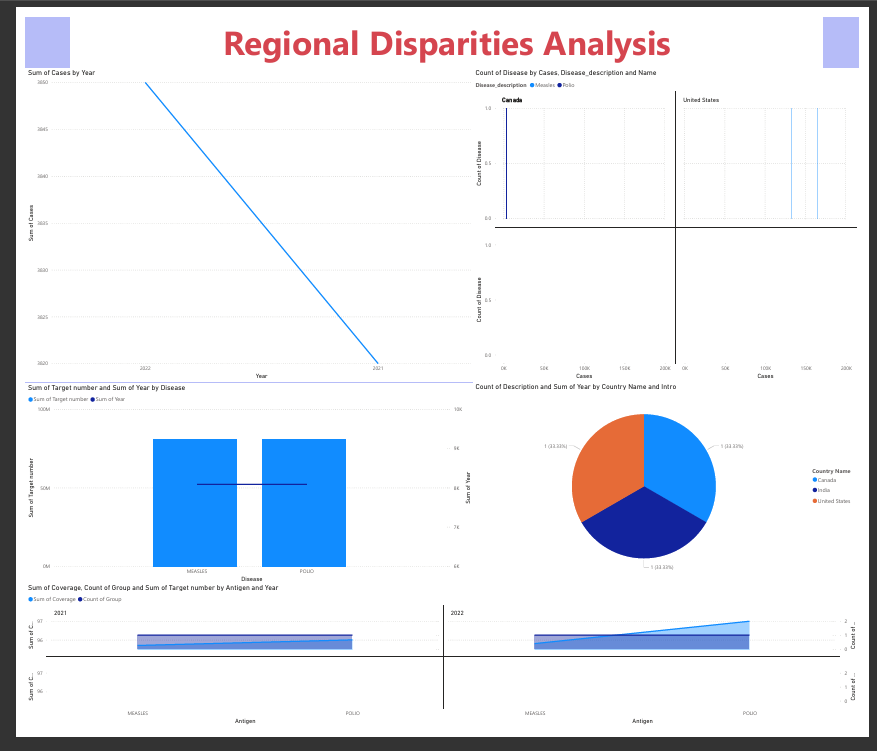

This screenshot's page, from the dashboard's own definition file:
{"tool":"powerbi","page":{"name":"vaccination report","canvas":[2000,1700],"ordinal":0},"visuals":[{"type":"lineChart","fields":{"Category":["Reported_Cases.Year"],"Y":["Sum(Reported_Cases.Cases)"]},"box":[0,124.2,1074.1,750.7],"z":0},{"type":"lineStackedColumnComboChart","fields":{"Category":["Reported_Cases.Cases"],"Y":["CountNonNull(Reported_Cases.Disease)"],"Series":["Reported_Cases.Disease_description"],"Rows":["Reported_Cases.Name"]},"box":[1074.1,124.2,926.8,750.7],"z":1000},{"type":"lineStackedColumnComboChart","fields":{"Category":["Incidence_Rates.Disease"],"Y":["Sum(Coverage_Data.Target number)"],"Y2":["Sum(Coverage_Data.Year)"]},"box":[0,877.7,1074.1,482.2],"z":2000},{"type":"pieChart","fields":{"Category":["Vaccine_Introduction.Country Name"],"Y":["CountNonNull(Vaccine_Introduction.Description)"],"Series":["Vaccine_Introduction.Intro"]},"box":[1074.1,874.8,926.8,482.2],"z":3000},{"type":"areaChart","fields":{"Category":["Coverage_Data.Antigen"],"Y":["Sum(Coverage_Data.Coverage)"],"Y2":["CountNonNull(Coverage_Data.Group)"],"Rows":["Coverage_Data.Year"]},"box":[0,1357,2000.9,343.6],"z":4000},{"type":"textbox","box":[106.8,0,1807.4,124.2],"z":5000}]}

Visuals, with their boxes in screenshot pixels (x1, y1, x2, y2), scaled from the page's 2000x1700 canvas onto the 877x751 screenshot:
lineChart - Reported_Cases.Year x Sum(Reported_Cases.Cases): x1=0 y1=55 x2=471 y2=386
lineStackedColumnComboChart - Reported_Cases.Cases x CountNonNull(Reported_Cases.Disease): x1=471 y1=55 x2=876 y2=386
lineStackedColumnComboChart - Incidence_Rates.Disease x Sum(Coverage_Data.Target number): x1=0 y1=388 x2=471 y2=601
pieChart - Vaccine_Introduction.Country Name x CountNonNull(Vaccine_Introduction.Description): x1=471 y1=386 x2=876 y2=599
areaChart - Coverage_Data.Antigen x Sum(Coverage_Data.Coverage): x1=0 y1=599 x2=876 y2=750
textbox: x1=47 y1=0 x2=839 y2=55
